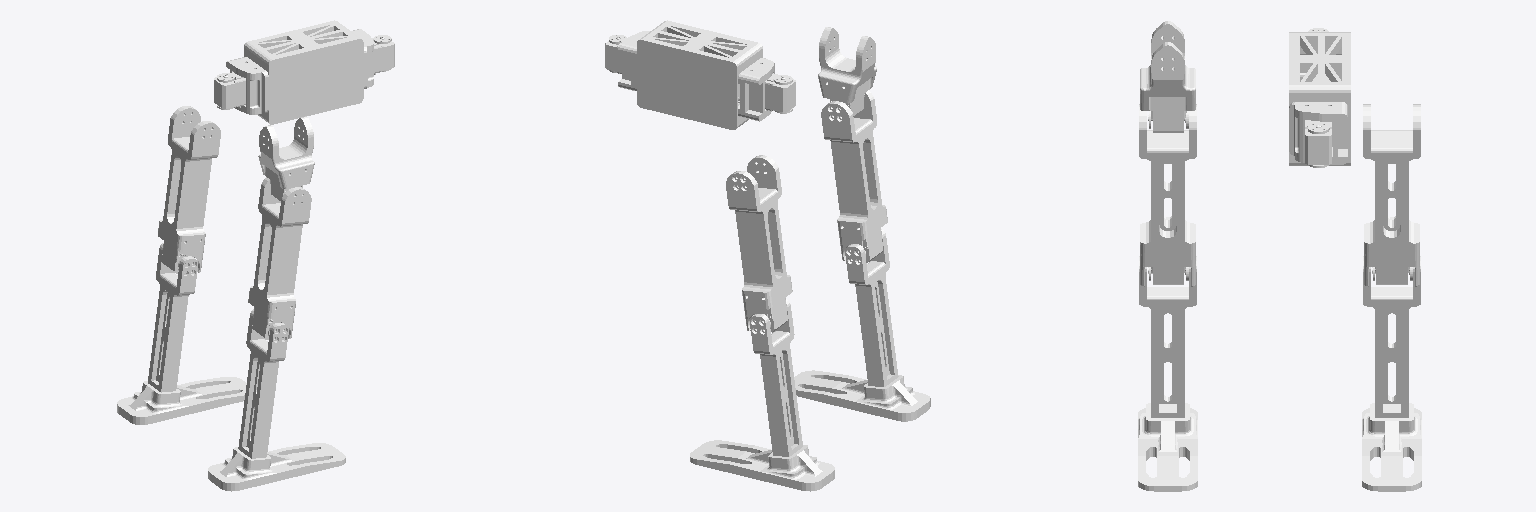
The robot description file, URDF, robot "LeggyBot6DoF_V2":
<?xml version="1.0" encoding="utf-8"?>
<!-- This URDF was automatically created by SolidWorks to URDF Exporter! Originally created by Stephen Brawner (brawner@gmail.com) 
     Commit Version: 1.6.0-4-g7f85cfe  Build Version: 1.6.7995.38578
     For more information, please see http://wiki.ros.org/sw_urdf_exporter -->
<robot
  name="LeggyBot6DoF_V2">
  <link
    name="FloatingBase">
    <inertial>
      <origin
        xyz="-0.00013425 -0.00017841 0.025983"
        rpy="0 0 0" />
      <mass
        value="0.542" />
      <inertia
        ixx="0.0011305"
        ixy="9.6504E-11"
        ixz="-5.4561E-08"
        iyy="0.00037886"
        iyz="2.5317E-11"
        izz="0.0012936" />
    </inertial>
    <visual>
      <origin
        xyz="0 0 0"
        rpy="0 0 0" />
      <geometry>
        <mesh
          filename="package://LeggyBot6DoF_V2/meshes/FloatingBase.STL" />
      </geometry>
      <material
        name="">
        <color
          rgba="1 1 1 1" />
      </material>
    </visual>
    <collision>
      <origin
        xyz="0 0 0"
        rpy="0 0 0" />
      <geometry>
        <mesh
          filename="package://LeggyBot6DoF_V2/meshes/FloatingBase.STL" />
      </geometry>
    </collision>
  </link>
  <link
    name="RightHip">
    <inertial>
      <origin
        xyz="-0.0001433 0.0011909 0.0267"
        rpy="0 0 0" />
      <mass
        value="0.102" />
      <inertia
        ixx="5.2172E-05"
        ixy="-2.137E-09"
        ixz="3.2038E-11"
        iyy="4.3682E-05"
        iyz="3.9052E-11"
        izz="4.6004E-05" />
    </inertial>
    <visual>
      <origin
        xyz="0 0 0"
        rpy="0 0 0" />
      <geometry>
        <mesh
          filename="package://LeggyBot6DoF_V2/meshes/RightHip.STL" />
      </geometry>
      <material
        name="">
        <color
          rgba="1 1 1 1" />
      </material>
    </visual>
    <collision>
      <origin
        xyz="0 0 0"
        rpy="0 0 0" />
      <geometry>
        <mesh
          filename="package://LeggyBot6DoF_V2/meshes/RightHip.STL" />
      </geometry>
    </collision>
  </link>
  <joint
    name="RightBaseToHip"
    type="revolute">
    <origin
      xyz="0.0267 -0.1016 -0.0083"
      rpy="1.5708 0 -1.5708" />
    <parent
      link="FloatingBase" />
    <child
      link="RightHip" />
    <axis
      xyz="0 0 1" />
    <limit
      lower="0"
      upper="0"
      effort="0"
      velocity="0" />
  </joint>
  <link
    name="RightThigh">
    <inertial>
      <origin
        xyz="-8.1399E-07 0.045927 0.017387"
        rpy="0 0 0" />
      <mass
        value="0.154" />
      <inertia
        ixx="0.00040883"
        ixy="-1.2646E-06"
        ixz="-5.4649E-09"
        iyy="6.1873E-05"
        iyz="-4.3543E-06"
        izz="0.00043119" />
    </inertial>
    <visual>
      <origin
        xyz="0 0 0"
        rpy="0 0 0" />
      <geometry>
        <mesh
          filename="package://LeggyBot6DoF_V2/meshes/RightThigh.STL" />
      </geometry>
      <material
        name="">
        <color
          rgba="1 1 1 1" />
      </material>
    </visual>
    <collision>
      <origin
        xyz="0 0 0"
        rpy="0 0 0" />
      <geometry>
        <mesh
          filename="package://LeggyBot6DoF_V2/meshes/RightThigh.STL" />
      </geometry>
    </collision>
  </link>
  <joint
    name="RightHipToThigh"
    type="revolute">
    <origin
      xyz="0 -0.16576 0.027732"
      rpy="-0.13963 0 0" />
    <parent
      link="RightHip" />
    <child
      link="RightThigh" />
    <axis
      xyz="1 0 0" />
    <limit
      lower="0"
      upper="0"
      effort="0"
      velocity="0" />
  </joint>
  <link
    name="RightShin">
    <inertial>
      <origin
        xyz="0.015 0.090654 0.01001"
        rpy="0 0 0" />
      <mass
        value="0.061" />
      <inertia
        ixx="0.00026237"
        ixy="-2.3624E-11"
        ixz="-2.7099E-13"
        iyy="2.1178E-05"
        iyz="1.1747E-07"
        izz="0.00027738" />
    </inertial>
    <visual>
      <origin
        xyz="0 0 0"
        rpy="0 0 0" />
      <geometry>
        <mesh
          filename="package://LeggyBot6DoF_V2/meshes/RightShin.STL" />
      </geometry>
      <material
        name="">
        <color
          rgba="1 1 1 1" />
      </material>
    </visual>
    <collision>
      <origin
        xyz="0 0 0"
        rpy="0 0 0" />
      <geometry>
        <mesh
          filename="package://LeggyBot6DoF_V2/meshes/RightShin.STL" />
      </geometry>
    </collision>
  </link>
  <joint
    name="RightKnee"
    type="revolute">
    <origin
      xyz="-0.015 -0.1996 0.00765"
      rpy="0 0 0" />
    <parent
      link="RightThigh" />
    <child
      link="RightShin" />
    <axis
      xyz="1 0 0" />
    <limit
      lower="0"
      upper="0"
      effort="0"
      velocity="0" />
  </joint>
  <link
    name="RightFoot">
    <inertial>
      <origin
        xyz="-1.0566E-07 -0.0162 0.0078317"
        rpy="0 0 0" />
      <mass
        value="0.069" />
      <inertia
        ixx="0.00021003"
        ixy="4.3933E-11"
        ixz="2.8916E-11"
        iyy="3.4562E-05"
        iyz="8.9283E-06"
        izz="0.0002338" />
    </inertial>
    <visual>
      <origin
        xyz="0 0 0"
        rpy="0 0 0" />
      <geometry>
        <mesh
          filename="package://LeggyBot6DoF_V2/meshes/RightFoot.STL" />
      </geometry>
      <material
        name="">
        <color
          rgba="1 1 1 1" />
      </material>
    </visual>
    <collision>
      <origin
        xyz="0 0 0"
        rpy="0 0 0" />
      <geometry>
        <mesh
          filename="package://LeggyBot6DoF_V2/meshes/RightFoot.STL" />
      </geometry>
    </collision>
  </link>
  <joint
    name="RightAnkle"
    type="fixed">
    <origin
      xyz="0.015 -0.0081898 -0.025136"
      rpy="-1.4312 0 0" />
    <parent
      link="RightShin" />
    <child
      link="RightFoot" />
    <axis
      xyz="0 0 0" />
  </joint>
  <link
    name="LeftHip">
    <inertial>
      <origin
        xyz="-0.0001433 0.0011909 0.0267"
        rpy="0 0 0" />
      <mass
        value="0.102" />
      <inertia
        ixx="5.2172E-05"
        ixy="-2.137E-09"
        ixz="3.2038E-11"
        iyy="4.3682E-05"
        iyz="3.9052E-11"
        izz="4.6004E-05" />
    </inertial>
    <visual>
      <origin
        xyz="0 0 0"
        rpy="0 0 0" />
      <geometry>
        <mesh
          filename="package://LeggyBot6DoF_V2/meshes/LeftHip.STL" />
      </geometry>
      <material
        name="">
        <color
          rgba="1 1 1 1" />
      </material>
    </visual>
    <collision>
      <origin
        xyz="0 0 0"
        rpy="0 0 0" />
      <geometry>
        <mesh
          filename="package://LeggyBot6DoF_V2/meshes/LeftHip.STL" />
      </geometry>
    </collision>
  </link>
  <joint
    name="LeftBaseToHip"
    type="revolute">
    <origin
      xyz="0.0267 0.1016 -0.0083"
      rpy="1.5708 0 -1.5708" />
    <parent
      link="FloatingBase" />
    <child
      link="LeftHip" />
    <axis
      xyz="0 0 1" />
    <limit
      lower="0"
      upper="0"
      effort="0"
      velocity="0" />
  </joint>
  <link
    name="LeftThigh">
    <inertial>
      <origin
        xyz="-8.1399E-07 0.045927 0.017387"
        rpy="0 0 0" />
      <mass
        value="0.154" />
      <inertia
        ixx="0.00040883"
        ixy="-1.2646E-06"
        ixz="-5.4649E-09"
        iyy="6.1873E-05"
        iyz="-4.3543E-06"
        izz="0.00043119" />
    </inertial>
    <visual>
      <origin
        xyz="0 0 0"
        rpy="0 0 0" />
      <geometry>
        <mesh
          filename="package://LeggyBot6DoF_V2/meshes/LeftThigh.STL" />
      </geometry>
      <material
        name="">
        <color
          rgba="1 1 1 1" />
      </material>
    </visual>
    <collision>
      <origin
        xyz="0 0 0"
        rpy="0 0 0" />
      <geometry>
        <mesh
          filename="package://LeggyBot6DoF_V2/meshes/LeftThigh.STL" />
      </geometry>
    </collision>
  </link>
  <joint
    name="LeftHipToThigh"
    type="revolute">
    <origin
      xyz="0 -0.16576 0.027732"
      rpy="-0.13963 0 0" />
    <parent
      link="LeftHip" />
    <child
      link="LeftThigh" />
    <axis
      xyz="1 0 0" />
    <limit
      lower="0"
      upper="0"
      effort="0"
      velocity="0" />
  </joint>
  <link
    name="LeftShin">
    <inertial>
      <origin
        xyz="0.015 0.090654 0.01001"
        rpy="0 0 0" />
      <mass
        value="0.061" />
      <inertia
        ixx="0.00026237"
        ixy="-2.3624E-11"
        ixz="-2.7099E-13"
        iyy="2.1178E-05"
        iyz="1.1747E-07"
        izz="0.00027738" />
    </inertial>
    <visual>
      <origin
        xyz="0 0 0"
        rpy="0 0 0" />
      <geometry>
        <mesh
          filename="package://LeggyBot6DoF_V2/meshes/LeftShin.STL" />
      </geometry>
      <material
        name="">
        <color
          rgba="1 1 1 1" />
      </material>
    </visual>
    <collision>
      <origin
        xyz="0 0 0"
        rpy="0 0 0" />
      <geometry>
        <mesh
          filename="package://LeggyBot6DoF_V2/meshes/LeftShin.STL" />
      </geometry>
    </collision>
  </link>
  <joint
    name="LeftKnee"
    type="revolute">
    <origin
      xyz="-0.015 -0.1996 0.00765"
      rpy="0 0 0" />
    <parent
      link="LeftThigh" />
    <child
      link="LeftShin" />
    <axis
      xyz="1 0 0" />
    <limit
      lower="0"
      upper="0"
      effort="0"
      velocity="0" />
  </joint>
  <link
    name="LeftFoot">
    <inertial>
      <origin
        xyz="-1.0566E-07 -0.0162 0.0078317"
        rpy="0 0 0" />
      <mass
        value="0.069" />
      <inertia
        ixx="0.00021003"
        ixy="4.3933E-11"
        ixz="2.8916E-11"
        iyy="3.4562E-05"
        iyz="8.9283E-06"
        izz="0.0002338" />
    </inertial>
    <visual>
      <origin
        xyz="0 0 0"
        rpy="0 0 0" />
      <geometry>
        <mesh
          filename="package://LeggyBot6DoF_V2/meshes/LeftFoot.STL" />
      </geometry>
      <material
        name="">
        <color
          rgba="1 1 1 1" />
      </material>
    </visual>
    <collision>
      <origin
        xyz="0 0 0"
        rpy="0 0 0" />
      <geometry>
        <mesh
          filename="package://LeggyBot6DoF_V2/meshes/LeftFoot.STL" />
      </geometry>
    </collision>
  </link>
  <joint
    name="LeftAnkle"
    type="fixed">
    <origin
      xyz="0.015 -0.0081898 -0.025136"
      rpy="-1.4312 0 0" />
    <parent
      link="LeftShin" />
    <child
      link="LeftFoot" />
    <axis
      xyz="0 0 0" />
  </joint>
</robot>

--- Render facts (derived) ---
The picture shows the robot from 3 angles, left to right: view 1: azimuth 30°, elevation 25°; view 2: azimuth 150°, elevation 25°; view 3: azimuth 270°, elevation 25°; orthographic projection.
Robot: LeggyBot6DoF_V2 — 9 links, 8 joints (6 revolute, 2 fixed); root link FloatingBase; default pose: all joints at 0.
Links seen in each view (by area): view 1: FloatingBase, LeftThigh, RightThigh, RightShin, LeftShin, RightFoot, LeftFoot, RightHip; view 2: FloatingBase, LeftThigh, RightThigh, RightShin, LeftShin, LeftFoot, RightFoot, RightHip; view 3: FloatingBase, LeftThigh, RightThigh, RightHip, RightShin, LeftShin, RightFoot, LeftFoot.
Boxes of the visible links, left/top/right/bottom form: FloatingBase: left=214, top=20, right=394, bottom=124; LeftThigh: left=158, top=106, right=220, bottom=273; RightThigh: left=248, top=177, right=311, bottom=339; RightShin: left=238, top=309, right=288, bottom=458; LeftShin: left=148, top=243, right=197, bottom=392; RightFoot: left=208, top=443, right=345, bottom=491; LeftFoot: left=117, top=377, right=246, bottom=424; RightHip: left=258, top=116, right=314, bottom=200; FloatingBase: left=605, top=20, right=795, bottom=129; LeftThigh: left=726, top=155, right=792, bottom=332; RightThigh: left=821, top=90, right=887, bottom=262; RightShin: left=845, top=229, right=898, bottom=386; LeftShin: left=750, top=299, right=802, bottom=456; LeftFoot: left=690, top=440, right=834, bottom=491; RightFoot: left=794, top=370, right=930, bottom=421; RightHip: left=818, top=27, right=876, bottom=116; FloatingBase: left=1289, top=28, right=1350, bottom=167; LeftThigh: left=1363, top=104, right=1420, bottom=286; RightThigh: left=1139, top=104, right=1196, bottom=286; RightHip: left=1140, top=21, right=1195, bottom=132; RightShin: left=1139, top=256, right=1196, bottom=417; LeftShin: left=1363, top=256, right=1420, bottom=417; RightFoot: left=1138, top=403, right=1197, bottom=491; LeftFoot: left=1362, top=403, right=1421, bottom=491.
Bounding box of the posed robot: 0.306 × 0.2582 × 0.449 m (x, y, z).
8 mesh visuals loaded from 9 distinct referenced files (8 binary STL); not drawn: 1 (reference not matched to a file when rendering).
